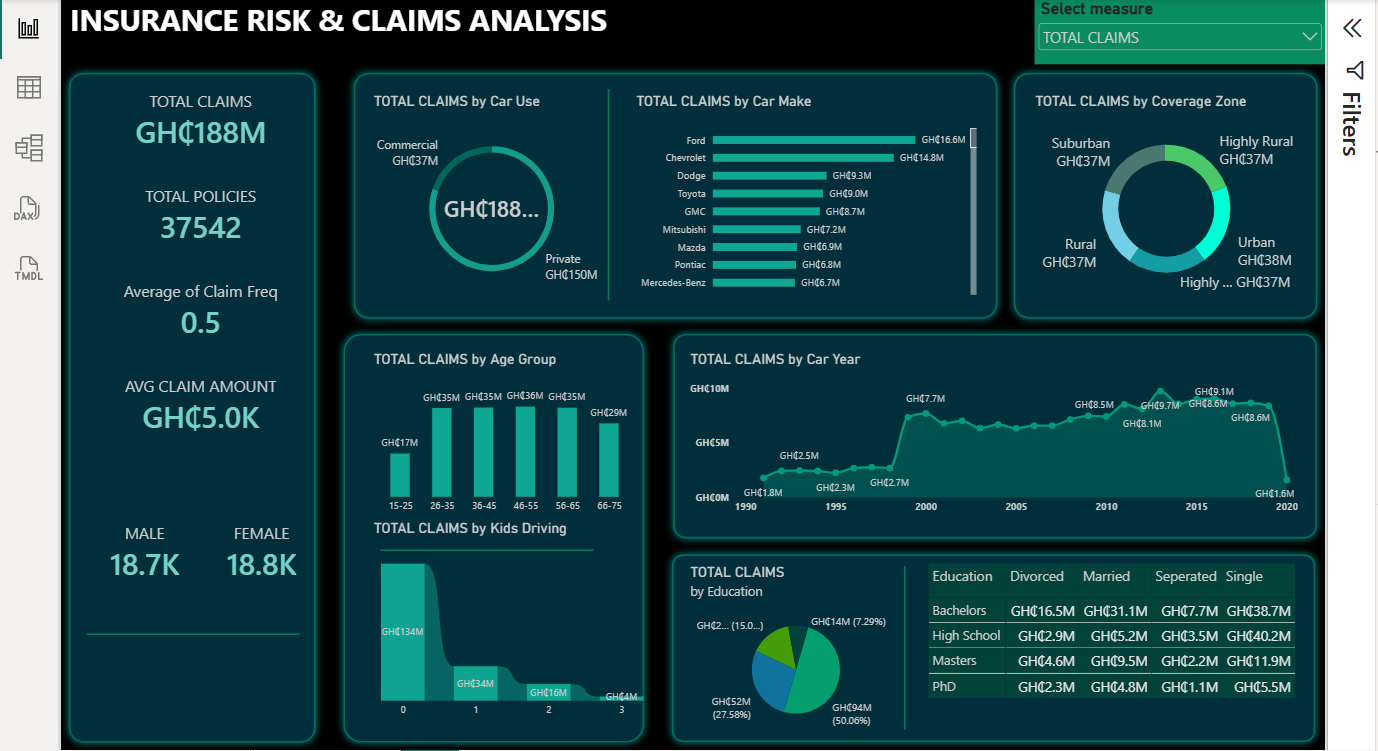

The dashboard page shown, as its layout file describes it:
{"tool":"powerbi","page":{"name":"Dashboard","canvas":[1600,950],"ordinal":0},"visuals":[{"type":"textbox","box":[11.8,0,699.2,82.7],"z":0},{"type":"shape","box":[0,83.5,332.1,867.2],"z":1},{"type":"cardVisual","fields":{"Data":["insurance_data_car.TOTAL CLAIMS","insurance_data_car.TOTAL POLICIES","Avg(insurance_data_car.Claim Freq)","insurance_data_car.AVG CLAIM AMOUNT"]},"box":[42.5,103.9,270,460],"z":2},{"type":"cardVisual","fields":{"Data":["insurance_data_car.Male Count","insurance_data_car.Female Count"]},"box":[42.5,644.9,276.4,111],"z":3},{"type":"slicer","fields":{"Values":["Select measure .Select measure "]},"box":[1230.7,0,368.5,82.7],"z":4},{"type":"shape","box":[361.4,82.7,833.9,330.7],"z":5},{"type":"donutChart","fields":{"Category":["insurance_data_car.Car Use"],"Y":["insurance_data_car.TOTAL CLAIMS"]},"box":[380.3,103.9,330.7,285.8],"z":6},{"type":"clusteredBarChart","fields":{"Category":["insurance_data_car.Car Make"],"Y":["insurance_data_car.TOTAL CLAIMS"]},"box":[711,103.9,463,285.8],"z":7},{"type":"shape","box":[1195.3,82.7,403.9,330.7],"z":8},{"type":"donutChart","fields":{"Category":["insurance_data_car.Coverage Zone"],"Y":["insurance_data_car.TOTAL CLAIMS"]},"box":[1216.5,103.9,363.8,285.8],"z":9},{"type":"shape","box":[347.2,413.7,400.4,537],"z":10},{"type":"clusteredColumnChart","fields":{"Category":["insurance_data_car.Age Group"],"Y":["insurance_data_car.TOTAL CLAIMS"]},"box":[380.3,429.9,365,240],"z":11},{"type":"ribbonChart","fields":{"Category":["insurance_data_car.Kids Driving"],"Y":["insurance_data_car.TOTAL CLAIMS"]},"box":[380.3,644.9,382.7,283.5],"z":12},{"type":"shape","box":[765.4,413.4,833.9,278.7],"z":13},{"type":"areaChart","fields":{"Category":["insurance_data_car.Car Year"],"Y":["insurance_data_car.TOTAL CLAIMS"]},"box":[779.5,429.9,800.8,240.9],"z":14},{"type":"shape","box":[763,692.1,833.9,257.5],"z":15},{"type":"pieChart","fields":{"Category":["insurance_data_car.Education"],"Y":["insurance_data_car.TOTAL CLAIMS"]},"box":[779.9,700.2,299.8,237.2],"z":16},{"type":"pivotTable","fields":{"Columns":["insurance_data_car.Marital Status"],"Rows":["insurance_data_car.Education"],"Values":["insurance_data_car.TOTAL CLAIMS"]},"box":[1081.6,700.2,499,237.2],"z":17},{"type":"shape","box":[673.6,113.9,38,267.5],"z":18},{"type":"shape","box":[1053.1,717.3,28.5,206.8],"z":19},{"type":"shape","box":[32.3,669.8,269.4,267.5],"z":20},{"type":"shape","box":[404.2,563.6,269.4,267.5],"z":21}]}

Visuals, with their boxes on the page's 1600x950 design canvas (x1, y1, x2, y2). These are canvas units, not pixel positions in the 1378x751 screenshot, which may show the page scaled, cropped or inside an application window:
textbox: locate(12, 0, 711, 83)
shape: locate(0, 84, 332, 951)
cardVisual - insurance_data_car.TOTAL CLAIMS x insurance_data_car.TOTAL POLICIES: locate(42, 104, 312, 564)
cardVisual - insurance_data_car.Male Count x insurance_data_car.Female Count: locate(42, 645, 319, 756)
slicer - Select measure .Select measure : locate(1231, 0, 1599, 83)
shape: locate(361, 83, 1195, 413)
donutChart - insurance_data_car.Car Use x insurance_data_car.TOTAL CLAIMS: locate(380, 104, 711, 390)
clusteredBarChart - insurance_data_car.Car Make x insurance_data_car.TOTAL CLAIMS: locate(711, 104, 1174, 390)
shape: locate(1195, 83, 1599, 413)
donutChart - insurance_data_car.Coverage Zone x insurance_data_car.TOTAL CLAIMS: locate(1216, 104, 1580, 390)
shape: locate(347, 414, 748, 951)
clusteredColumnChart - insurance_data_car.Age Group x insurance_data_car.TOTAL CLAIMS: locate(380, 430, 745, 670)
ribbonChart - insurance_data_car.Kids Driving x insurance_data_car.TOTAL CLAIMS: locate(380, 645, 763, 928)
shape: locate(765, 413, 1599, 692)
areaChart - insurance_data_car.Car Year x insurance_data_car.TOTAL CLAIMS: locate(780, 430, 1580, 671)
shape: locate(763, 692, 1597, 950)
pieChart - insurance_data_car.Education x insurance_data_car.TOTAL CLAIMS: locate(780, 700, 1080, 937)
pivotTable - insurance_data_car.Marital Status x insurance_data_car.Education: locate(1082, 700, 1581, 937)
shape: locate(674, 114, 712, 381)
shape: locate(1053, 717, 1082, 924)
shape: locate(32, 670, 302, 937)
shape: locate(404, 564, 674, 831)
